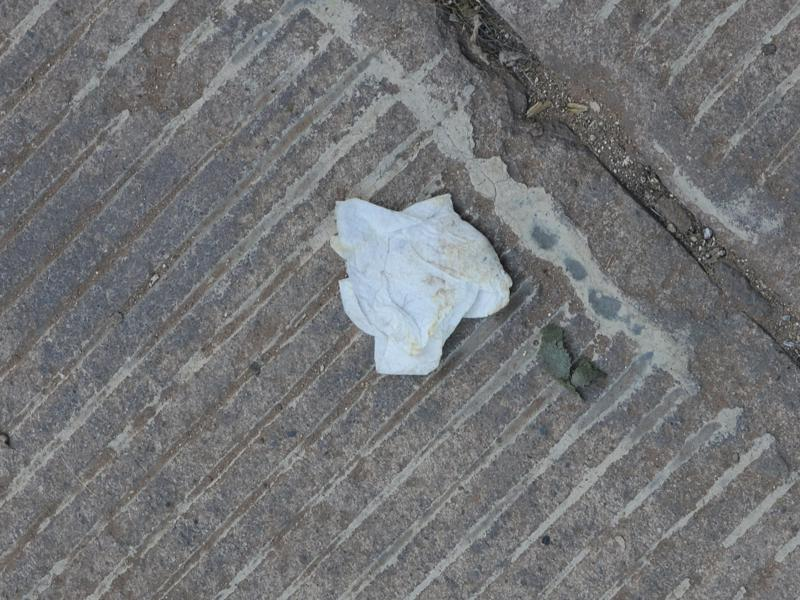papel: (328, 195, 512, 378)
